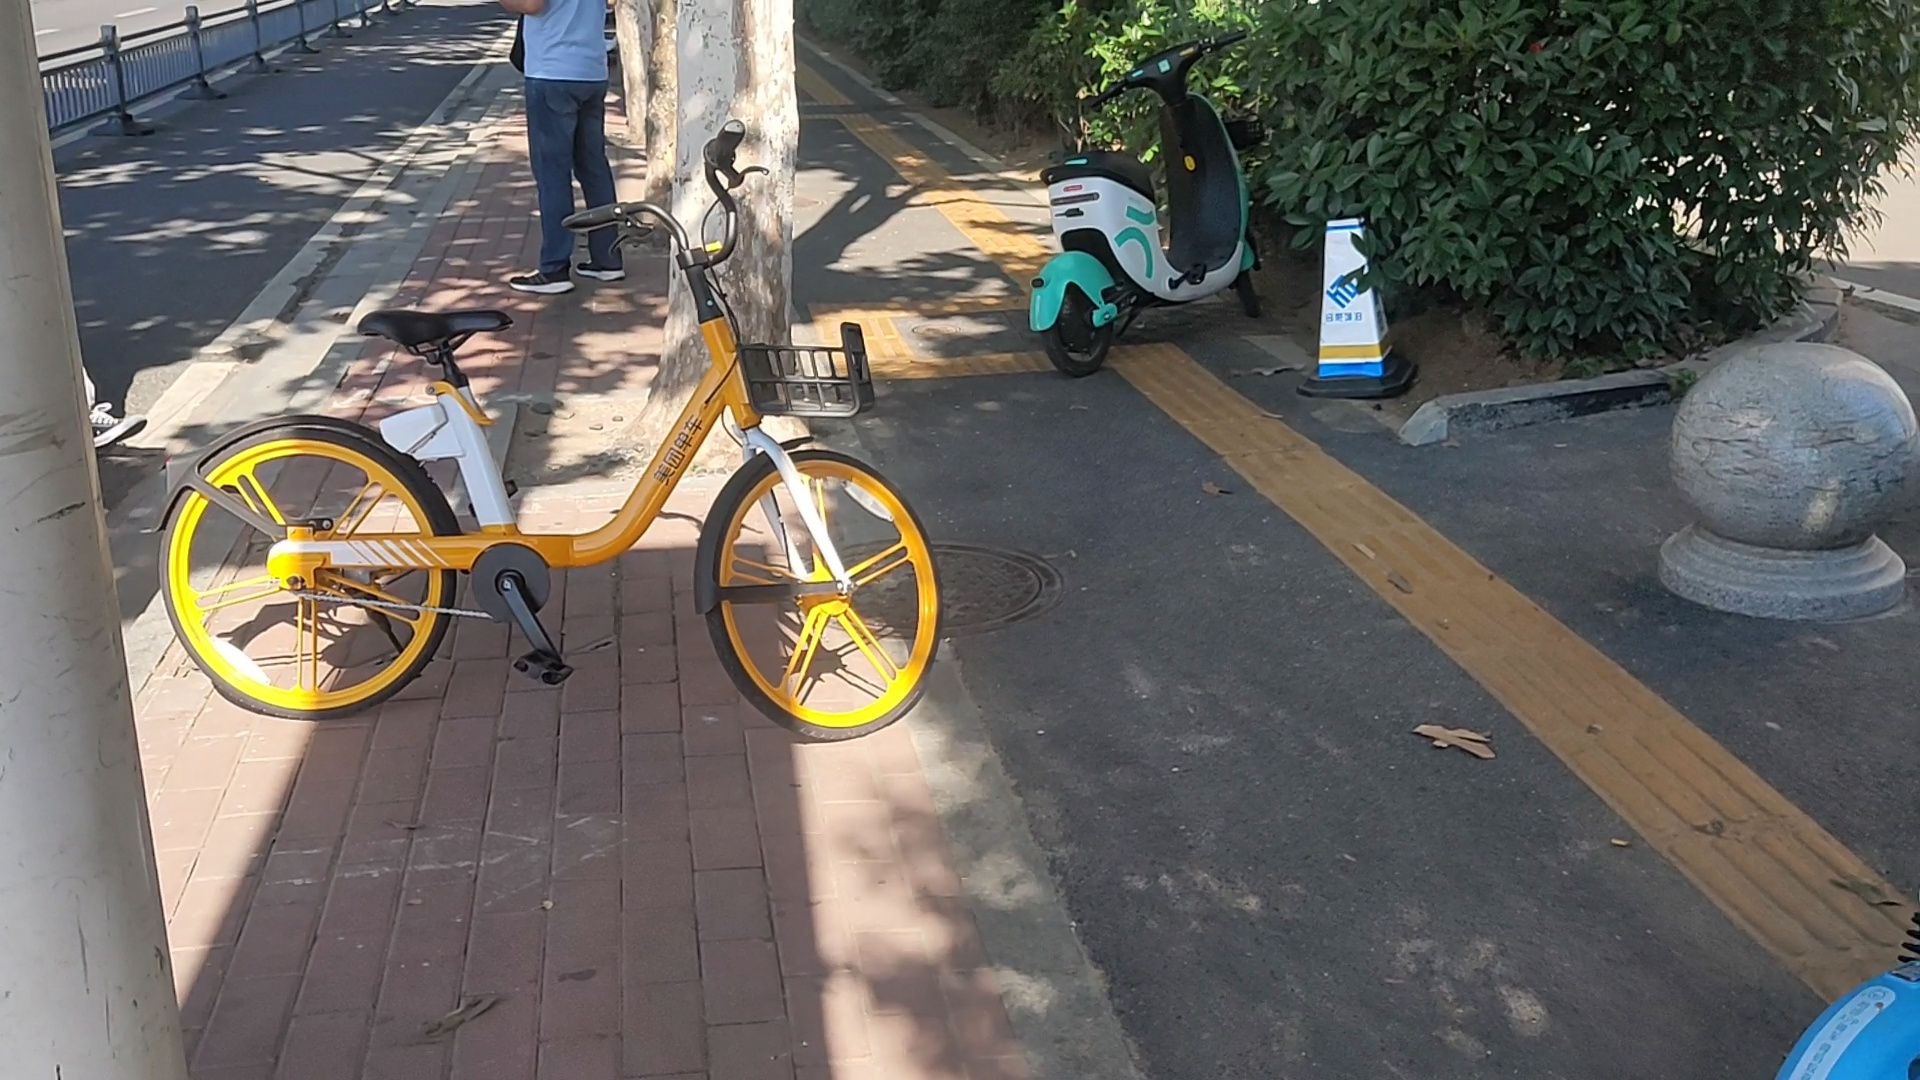non-vehicle: (164, 178, 957, 744), (1023, 30, 1263, 382)
